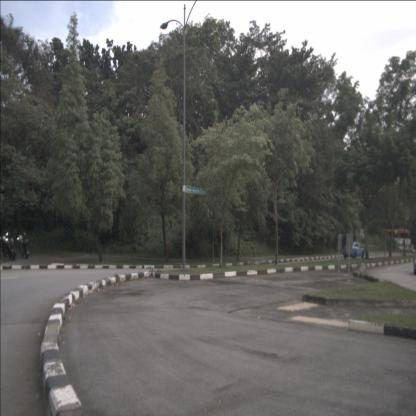vehicle-bus-rigid: (379, 228, 411, 247)
vehicle-car: (342, 241, 365, 259)
vehicle-motorcycle: (0, 232, 17, 261), (16, 232, 30, 258)
